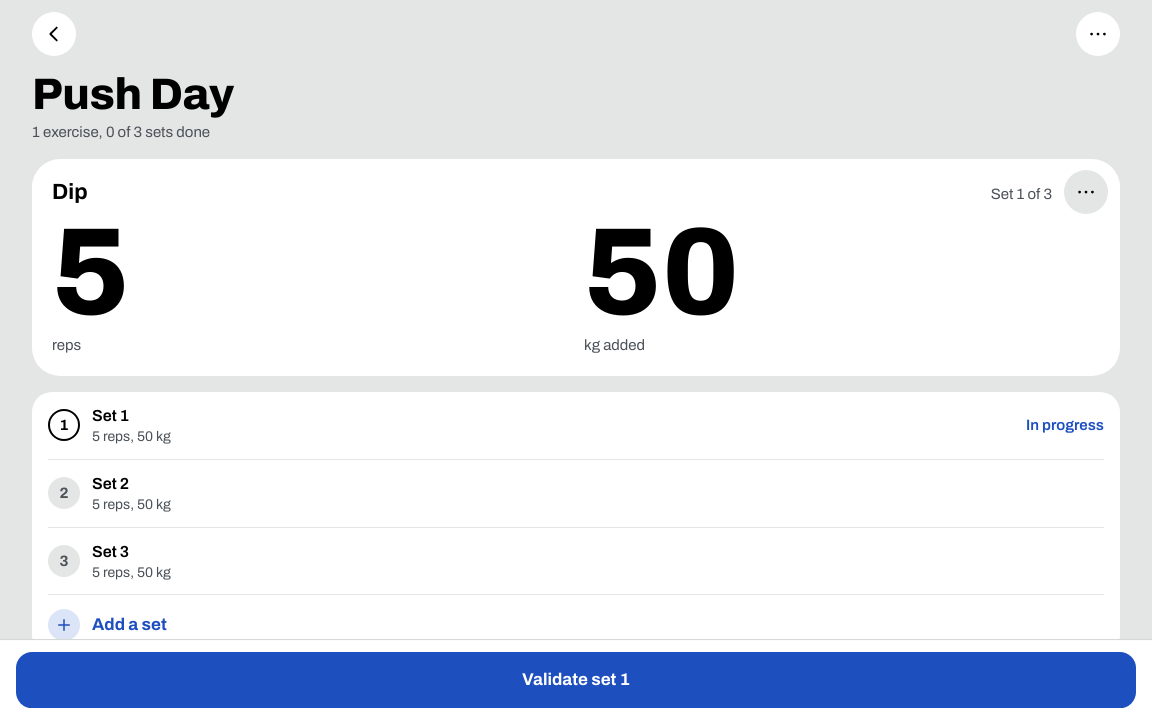
Test: SessionView › the confirm dialog says what is confirmed › with nothing logged it asks a second time before it confirms
Click the button named "Session options".
click(1098, 34)  # box [1076,12,1120,56]
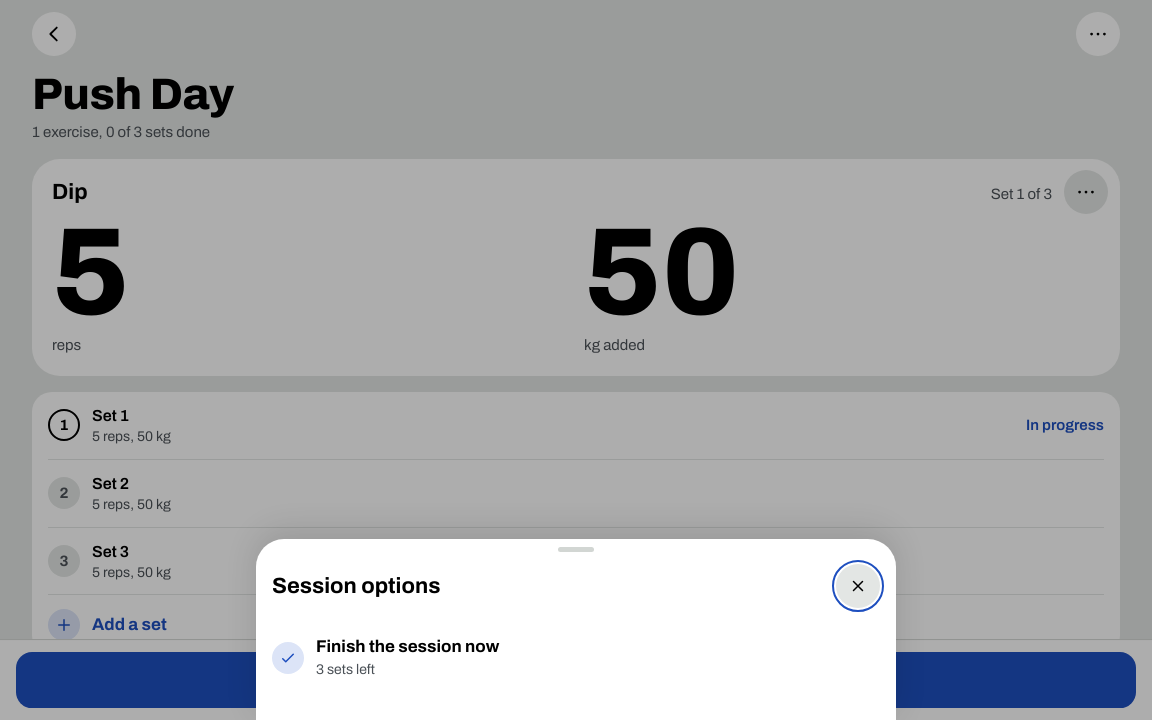
Click the button "Finish the session now 3 sets left".
click(288, 658)  # box [272,624,880,692]
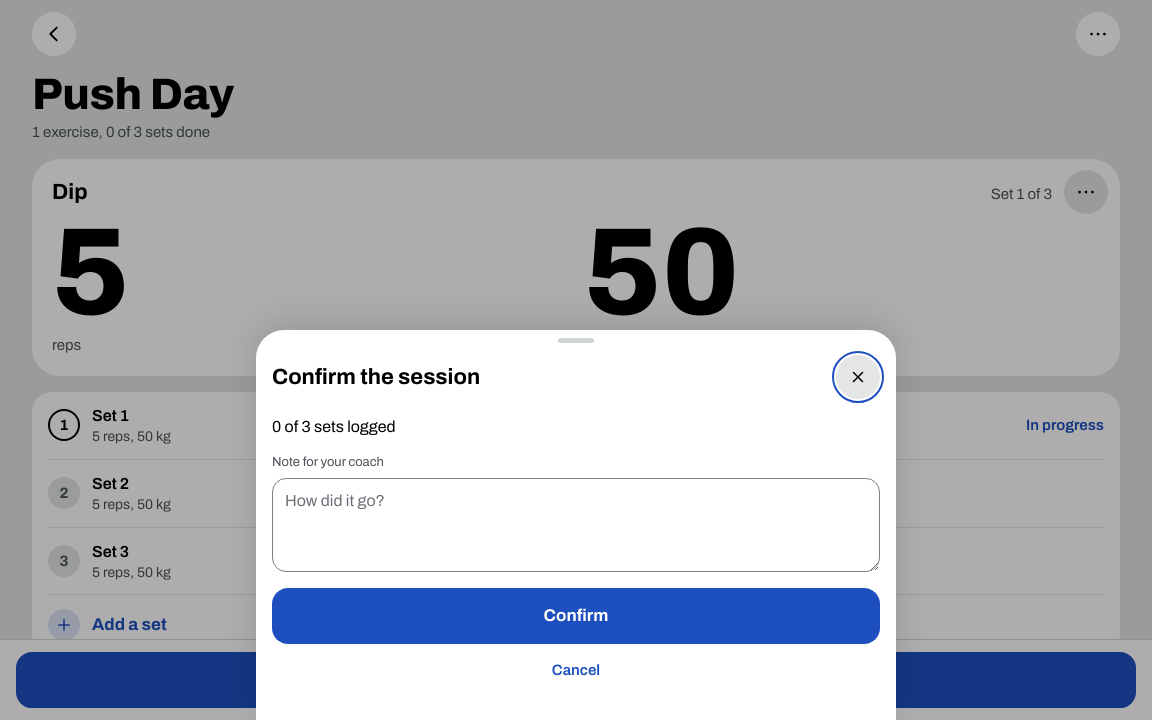
Expected: the text "0 of 3 sets logged" is shown, [272,418,396,435]
Type "did it at home" into the text box labelled "Note for your coach".
click(576, 525); type("did it at home")  # box [272,478,880,572]
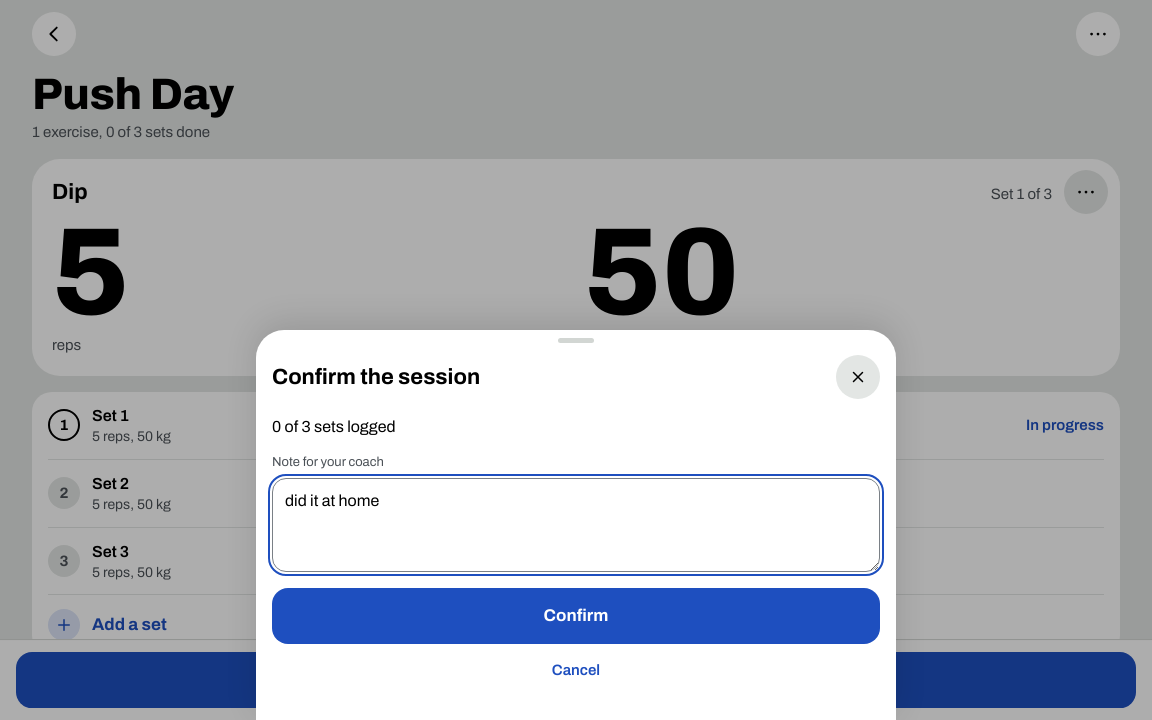
Click the button "Confirm".
click(576, 616)  # box [272,588,880,644]
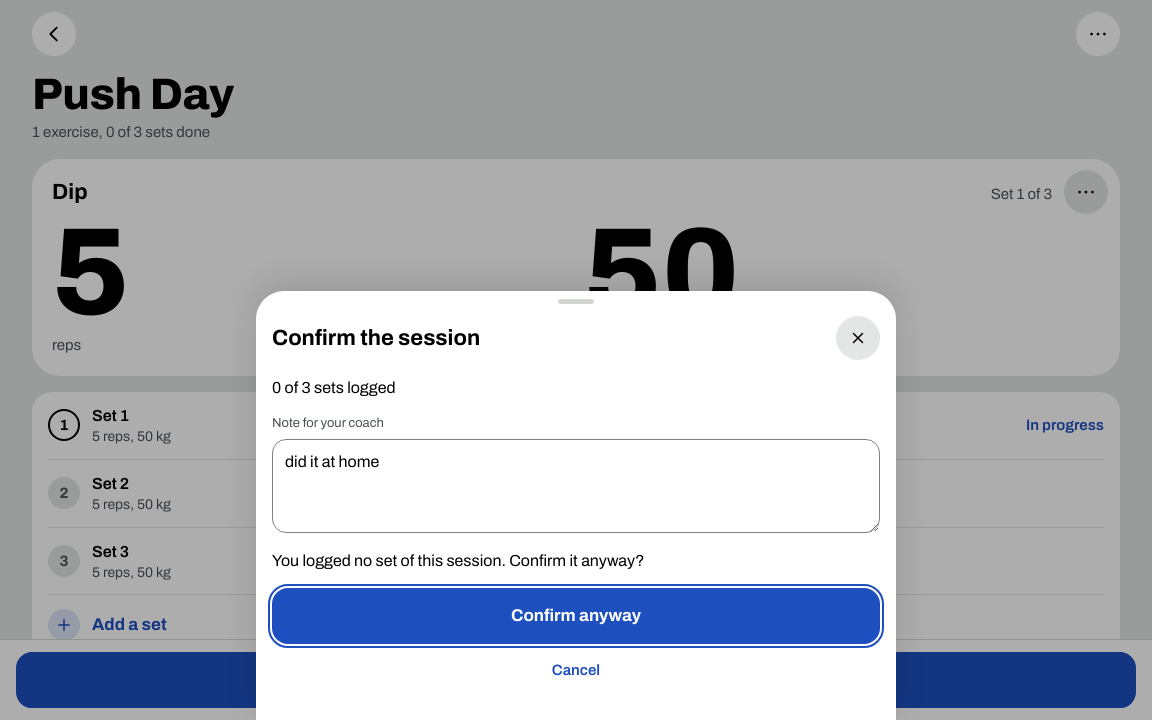
Expected: the message reads "You logged no set of this session. Confirm it anyway?", [272,552,644,569]
Click the button "Confirm anyway".
click(576, 616)  # box [272,588,880,644]
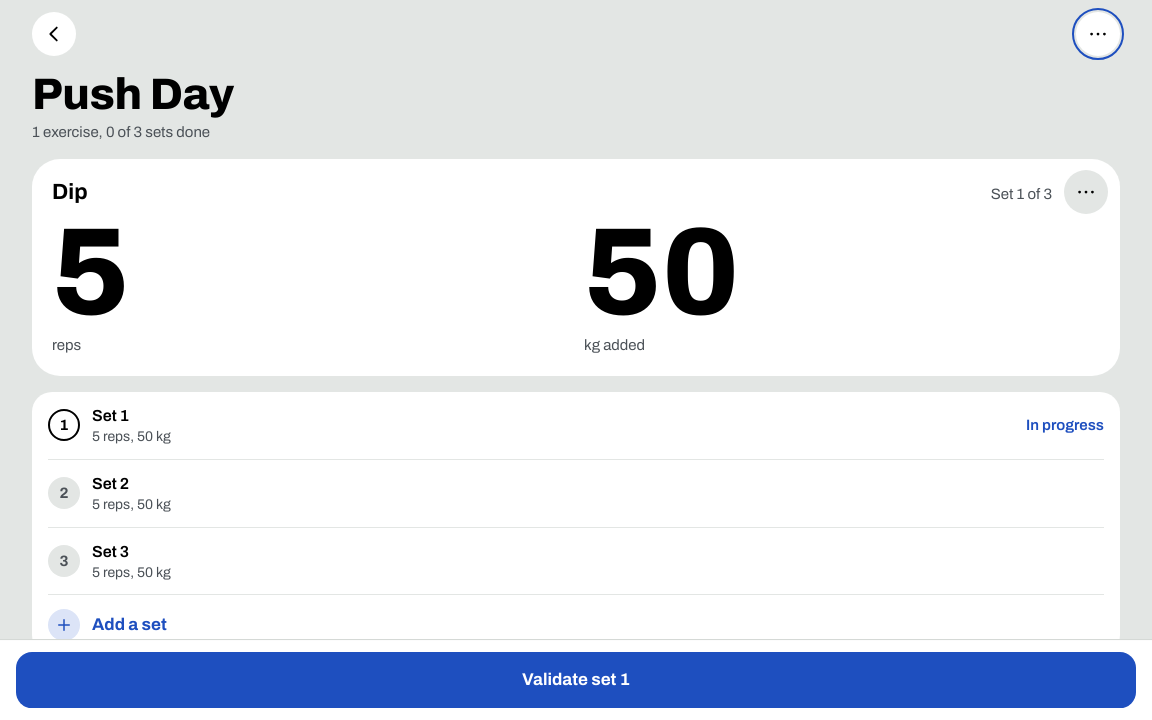
Expected: the label labelled "Note for your coach" is gone
